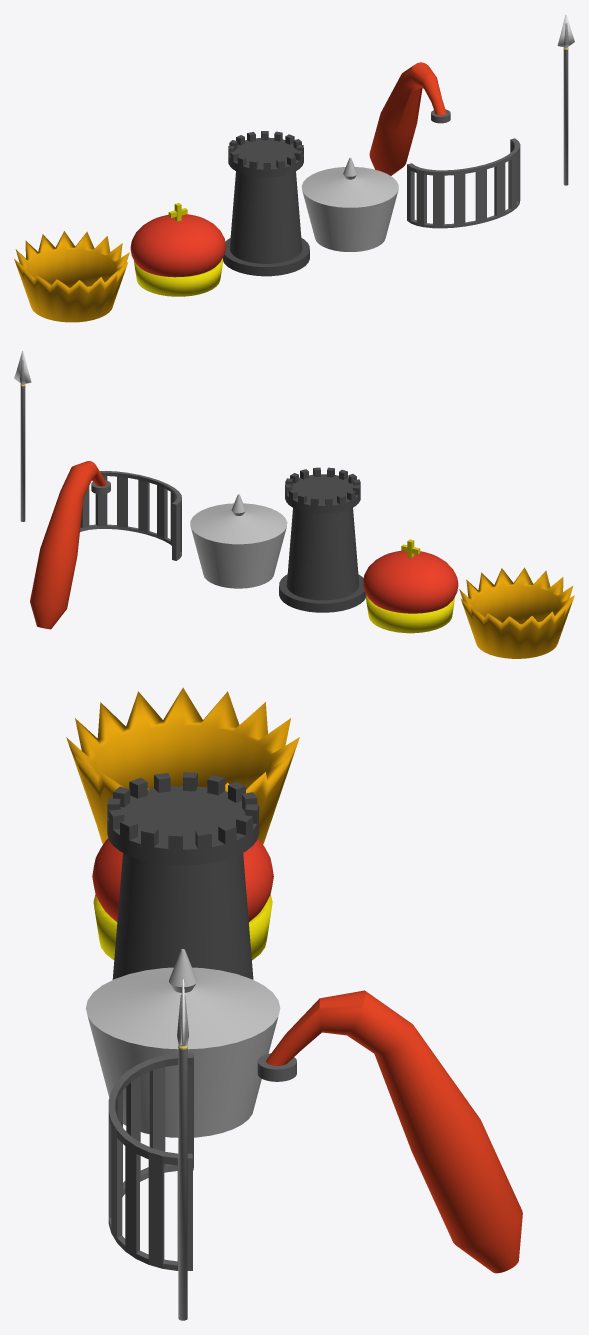
The model's file is ChessFBX.fbx.
The picture shows the model from 3 angles, top to bottom: view 1: azimuth 30°, elevation 25°; view 2: azimuth 150°, elevation 25°; view 3: azimuth 270°, elevation 25°; orthographic projection. The views are drawn at different scales.
Parts seen in each view (by area): view 1: 円.002, 円, 円.003, 円.001, 円.004, 円.006, 円.005; view 2: 円.002, 円, 円.003, 円.001, 円.006, 円.004, 円.005; view 3: 円.002, 円.006, 円.003, 円, 円.004, 円.001, 円.005.
Boxes of the visible parts, <box> form: 円.002: <box>223,131,309,276</box>; 円: <box>14,231,129,322</box>; 円.003: <box>301,157,398,251</box>; 円.001: <box>130,203,225,296</box>; 円.004: <box>407,138,520,228</box>; 円.006: <box>369,62,450,175</box>; 円.005: <box>557,14,574,185</box>; 円.002: <box>279,467,365,612</box>; 円: <box>459,567,574,658</box>; 円.003: <box>190,494,287,588</box>; 円.001: <box>363,539,458,633</box>; 円.006: <box>30,461,110,629</box>; 円.004: <box>80,471,181,560</box>; 円.005: <box>14,351,31,521</box>; 円.002: <box>107,772,258,979</box>; 円.006: <box>257,990,522,1273</box>; 円.003: <box>85,949,280,1137</box>; 円: <box>66,687,299,844</box>; 円.004: <box>108,1053,193,1270</box>; 円.001: <box>92,838,273,960</box>; 円.005: <box>177,979,188,1320</box>.
Bounding box in the file's own units: 1804 × 608 × 645.
